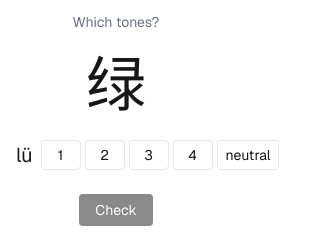
Test: ToneExercise › shows ü syllables with tone marks
The image size is (320, 243).
Click the button "4": (192, 155) [172,140,212,170]
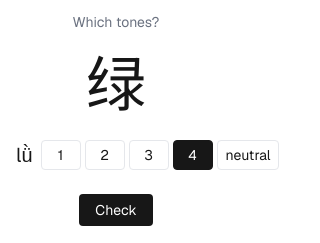
Now the text "lǜ" is shown, box [16,142,32,168]
